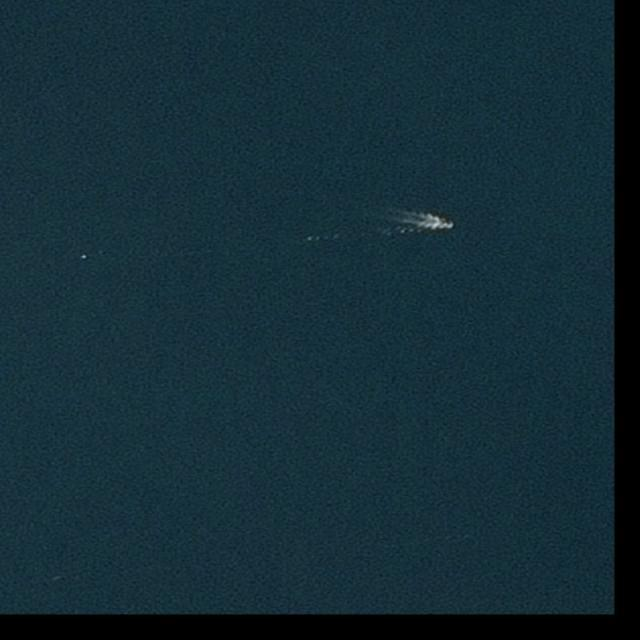ship: (441, 221, 454, 228)
